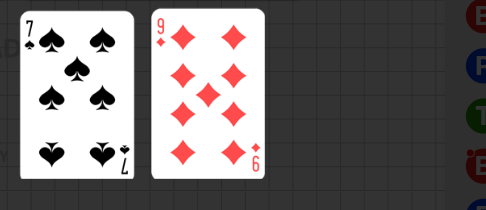7S: (23, 18, 36, 53)
9D: (250, 141, 262, 174)
